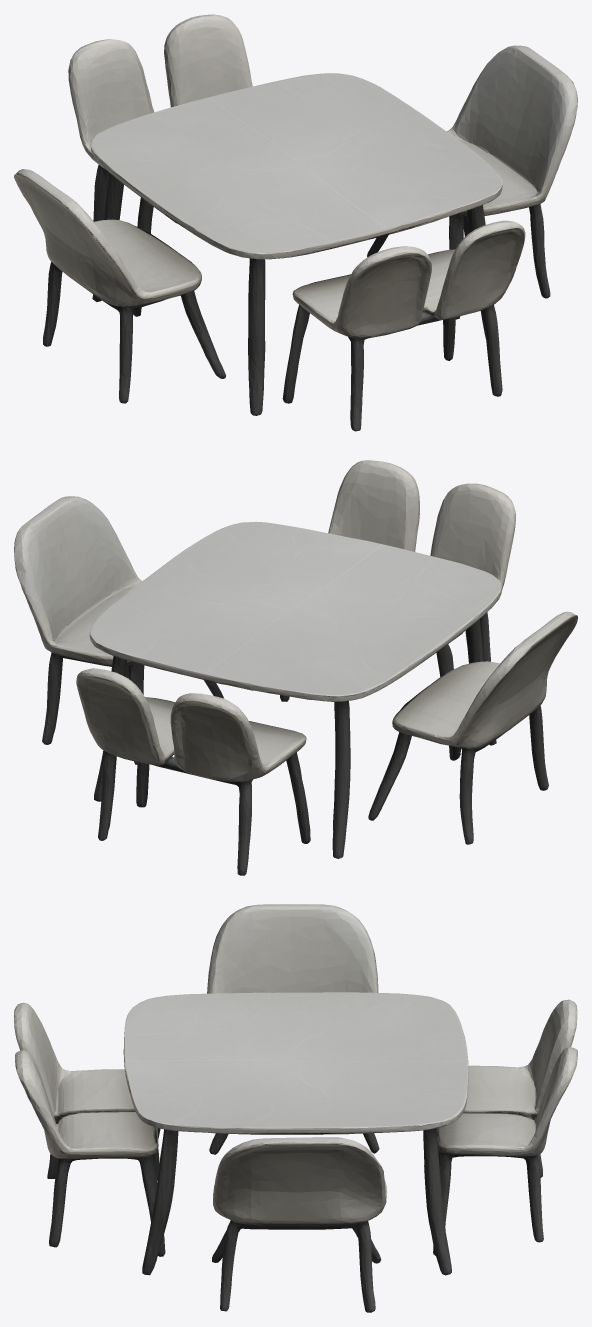
3 renders of one model, top to bottom at view 1: azimuth 30°, elevation 25°; view 2: azimuth 150°, elevation 25°; view 3: azimuth 270°, elevation 25°, orthographic. The views are drawn at different scales.
Visible parts, largest first — view 1: world; view 2: world; view 3: world.
Boxes of the visible parts, x1,y1,x2,y2 form: world: [14, 14, 577, 431]; world: [14, 460, 577, 875]; world: [14, 904, 577, 1312].
Size of the model in its own units: 0.9999 by 0.3831 by 0.9992.
Materials: 1 (1 with a texture image).
